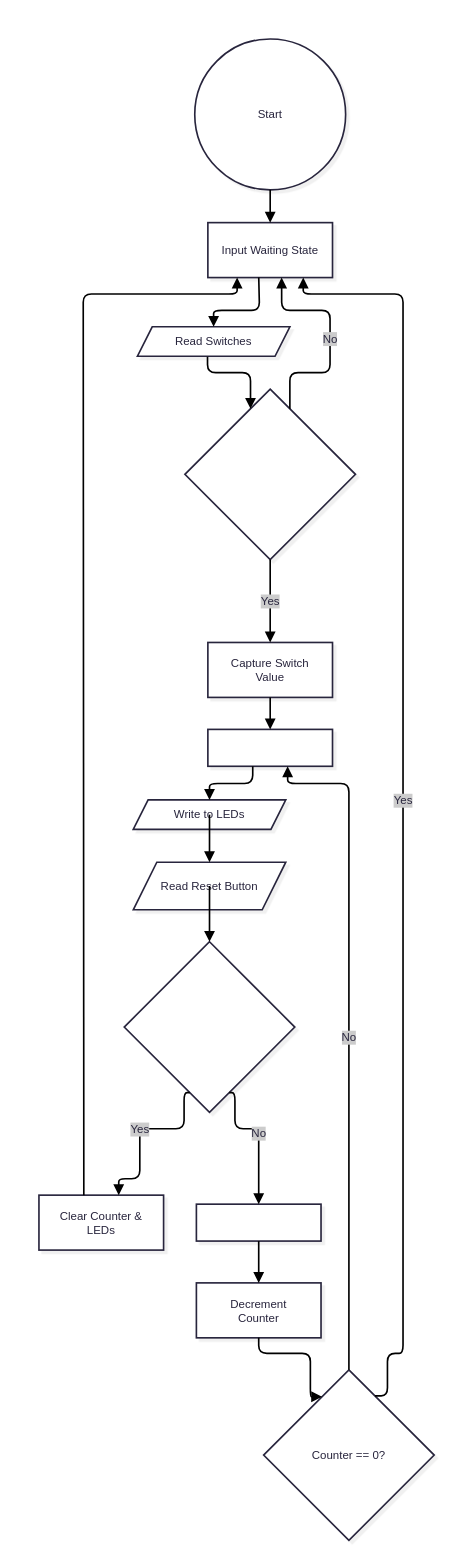
Some shapes in this 452 by 1558 pixel diagram are drawn without their labels. Here are the shapes that lost their labels. From the top down, the centre of each, then its label:
point (271, 475): Switch != 0?
point (271, 749): Countdown State
point (210, 1028): Reset == 1?
point (260, 1224): Delay Loop
